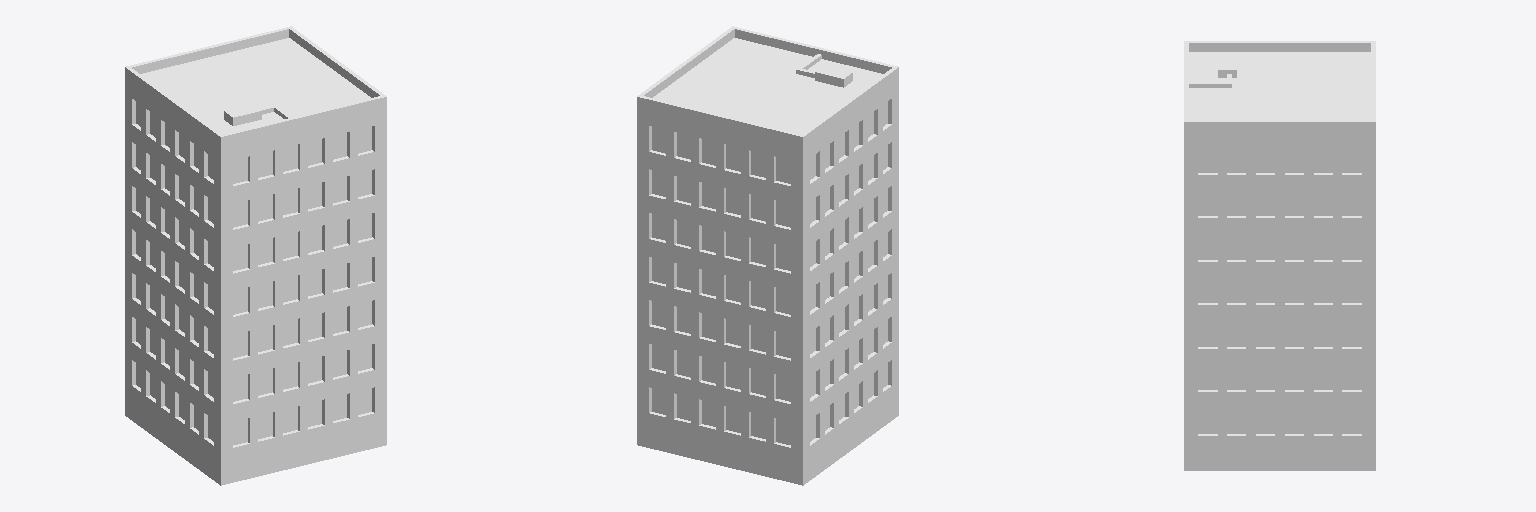
Rendered from Asset-25.obj.
The picture shows the model from 3 angles: view 1: azimuth 30°, elevation 25°; view 2: azimuth 150°, elevation 25°; view 3: azimuth 270°, elevation 25°; orthographic projection.
Visible parts, largest first — view 1: Asset-25; view 2: Asset-25; view 3: Asset-25.
Part boxes in pixels (bbox=[...]): Asset-25: bbox=[125, 26, 386, 485]; Asset-25: bbox=[637, 26, 898, 485]; Asset-25: bbox=[1184, 41, 1375, 470].
Size of the model in its own units: 40 by 80 by 40.